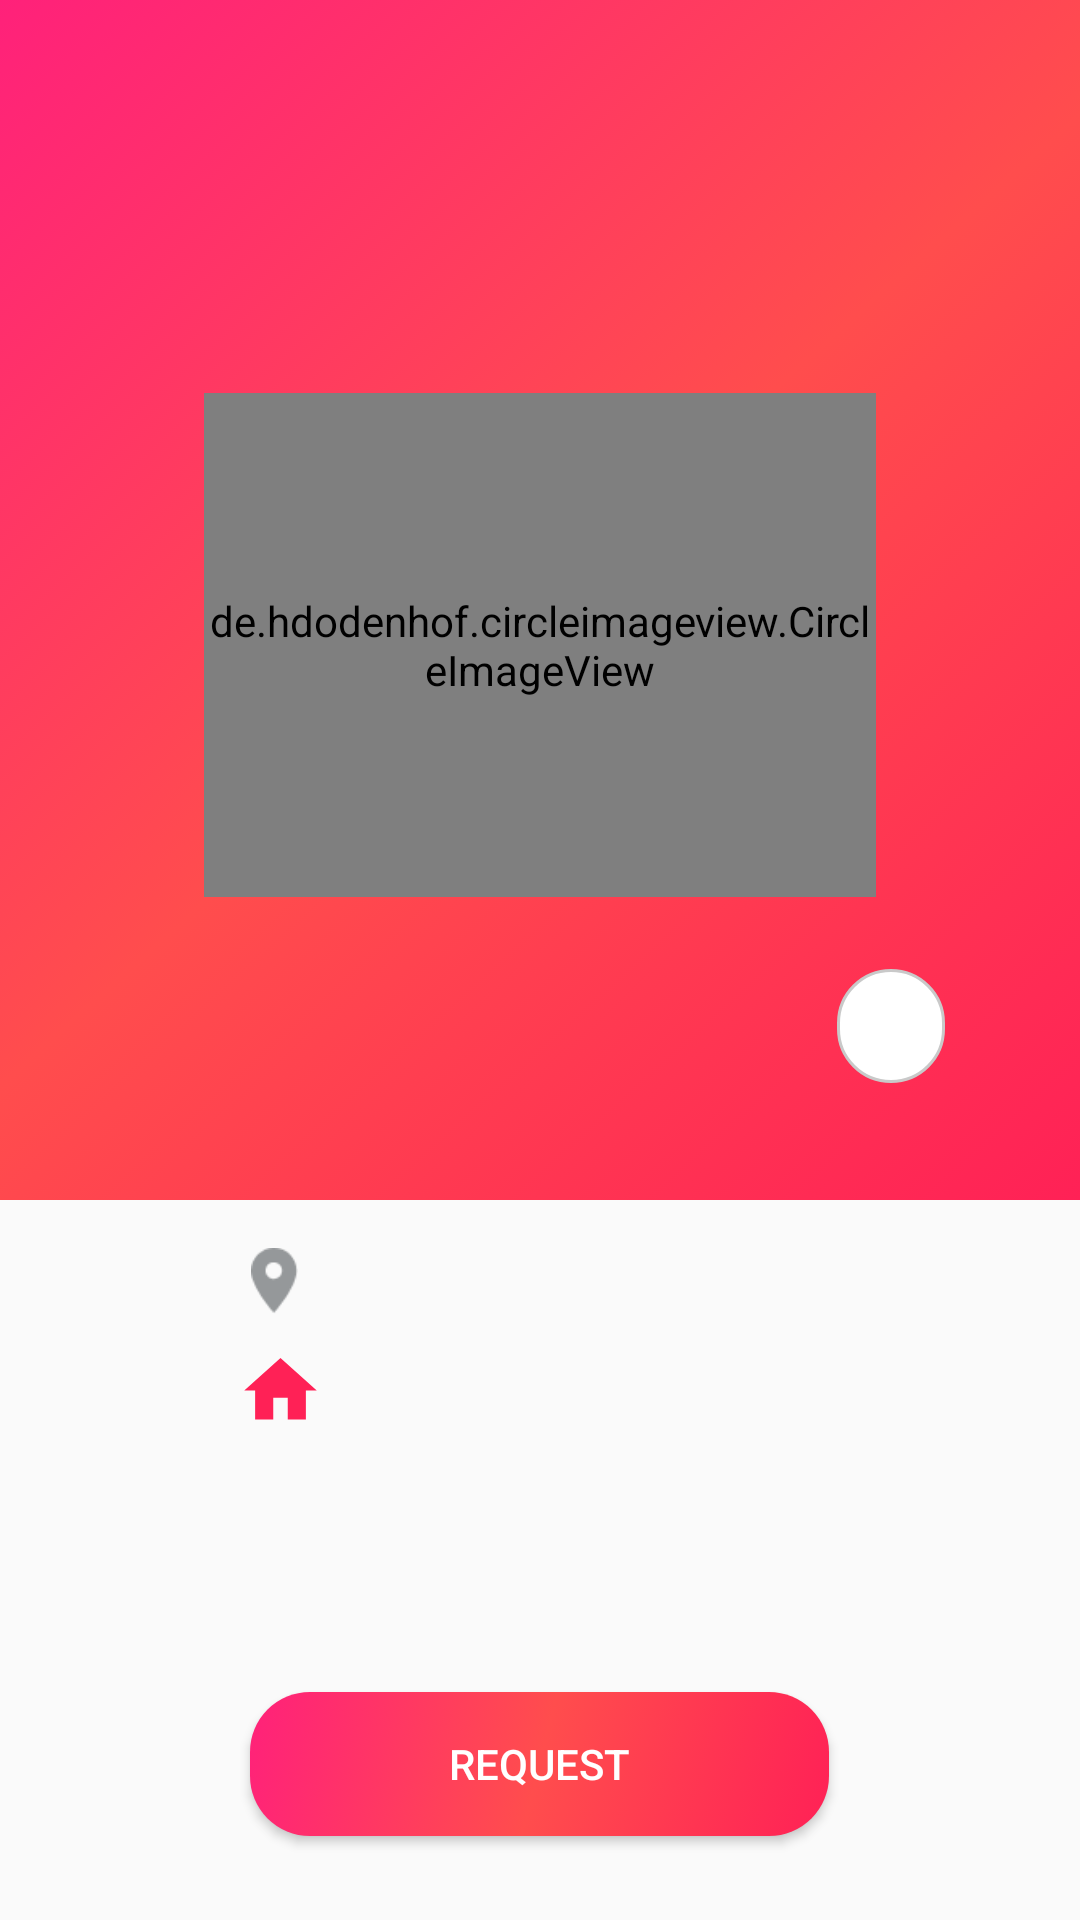

Screen size 1080w x 1920h. Icon name, then its center in pixels as [x,y]:
home: [280,1389]
